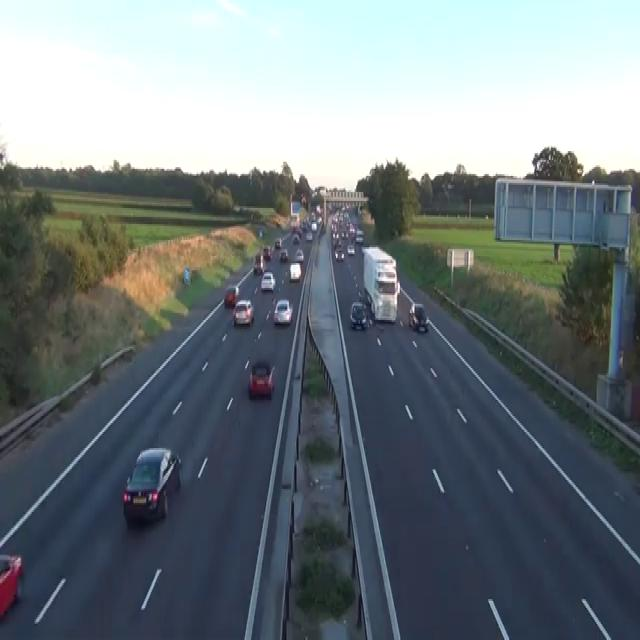Car: (122, 446, 182, 523), (0, 553, 23, 617), (331, 206, 357, 262), (247, 359, 275, 398), (408, 302, 428, 331), (232, 299, 254, 325), (349, 300, 367, 329), (273, 298, 293, 324), (224, 284, 239, 308), (260, 270, 275, 292), (289, 261, 301, 281), (358, 288, 369, 304), (262, 243, 271, 260), (334, 247, 344, 260), (279, 247, 288, 261), (0, 149, 6, 169), (355, 230, 364, 243), (295, 249, 304, 261), (441, 182, 454, 190), (348, 222, 355, 235), (346, 244, 355, 254), (274, 237, 282, 247), (292, 233, 300, 243), (232, 202, 240, 212), (305, 231, 312, 242), (300, 194, 306, 204), (311, 221, 317, 231), (446, 182, 454, 188), (311, 190, 317, 198), (317, 215, 322, 224), (259, 228, 262, 236)
Truck: (361, 246, 400, 324), (253, 252, 264, 274)
